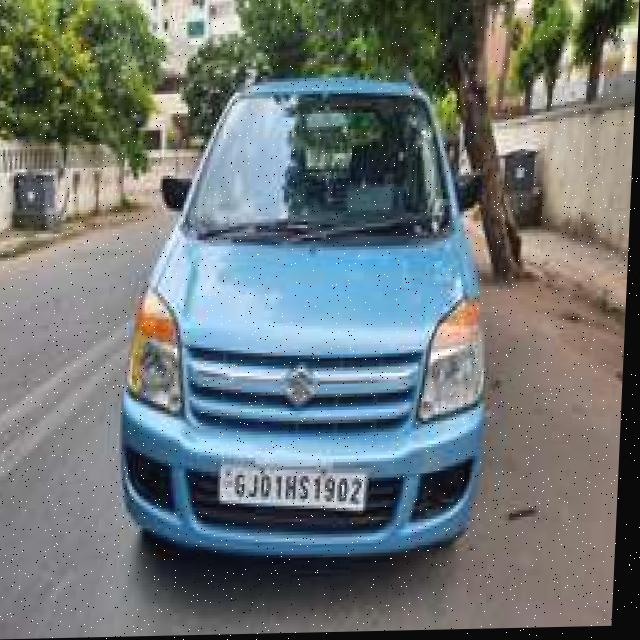plate: (219, 457, 375, 515)
